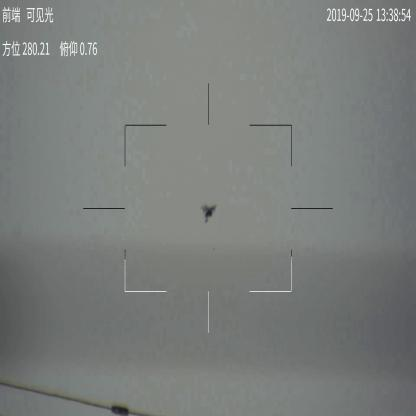uav: (201, 199, 219, 225)
